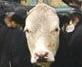muzzles: (29, 50, 55, 66)
